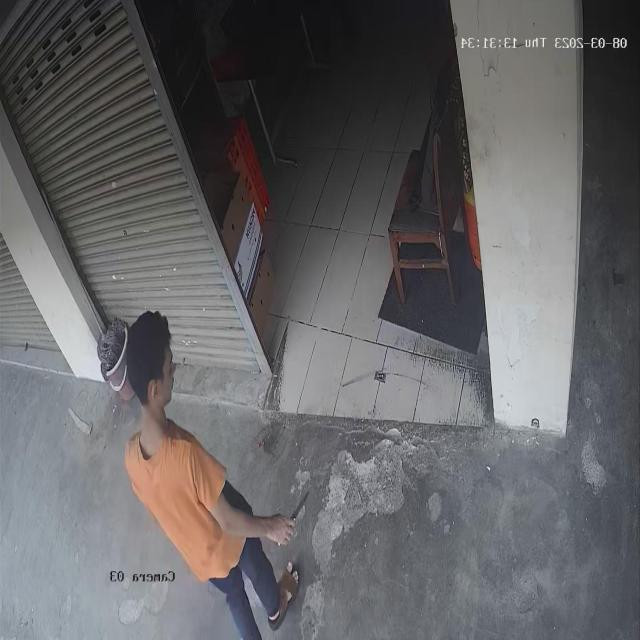Knife: (273, 490, 321, 532)
